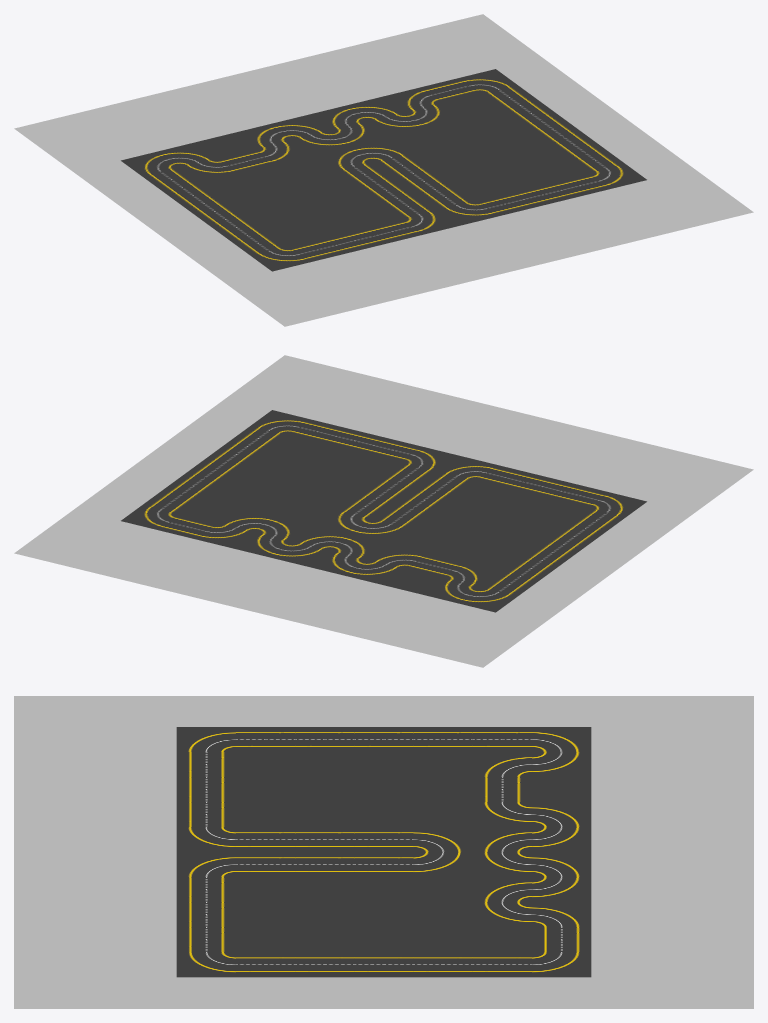
The model's file is traffic_markers_v2.dae.
The picture shows the model from 3 angles, top to bottom: view 1: azimuth 30°, elevation 25°; view 2: azimuth 150°, elevation 25°; view 3: azimuth 270°, elevation 25°; orthographic projection. The views are drawn at different scales.
Visible parts, largest first — view 1: Plane.001, Plane; view 2: Plane.001, Plane; view 3: Plane.001, Plane.
Boxes of the visible parts, bbox=[...] form: Plane.001: bbox=[14, 14, 753, 326]; Plane: bbox=[121, 69, 646, 271]; Plane.001: bbox=[14, 355, 753, 667]; Plane: bbox=[121, 410, 646, 612]; Plane.001: bbox=[14, 696, 753, 1008]; Plane: bbox=[176, 727, 591, 977].
Size of the model in its own units: 50 by 50 by 0.02.
